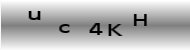4: (87, 21, 103, 36)
H: (132, 13, 148, 27)
K: (106, 23, 123, 37)
c: (57, 23, 70, 33)
u: (28, 10, 41, 20)
